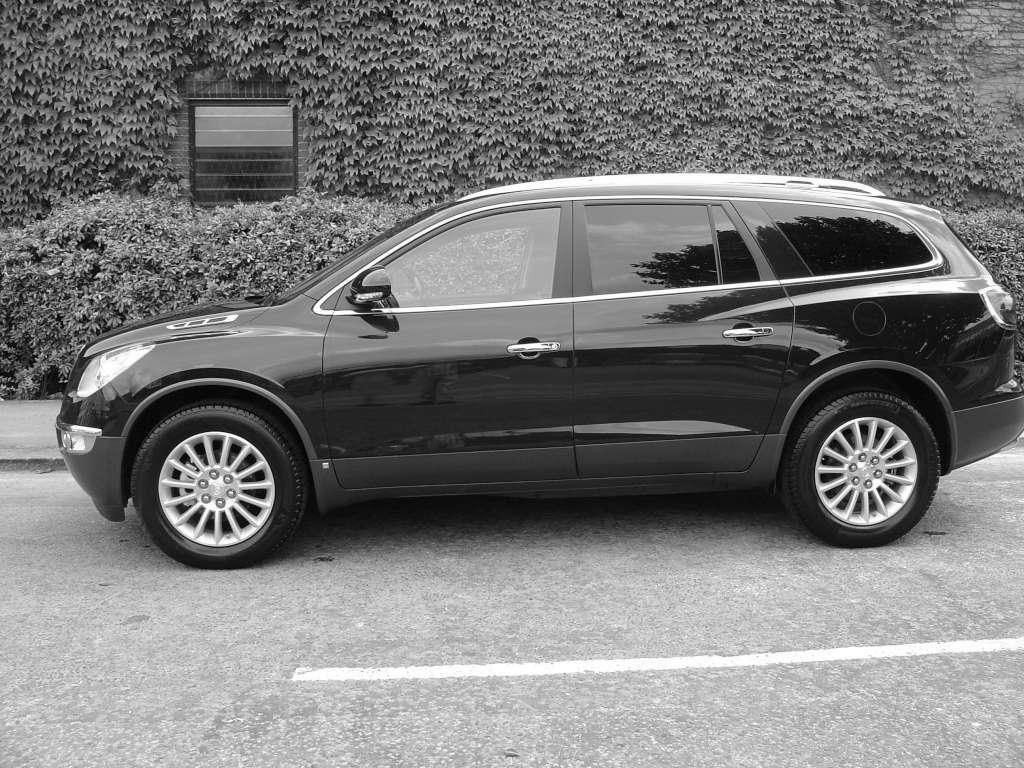car: (59, 170, 1022, 573)
